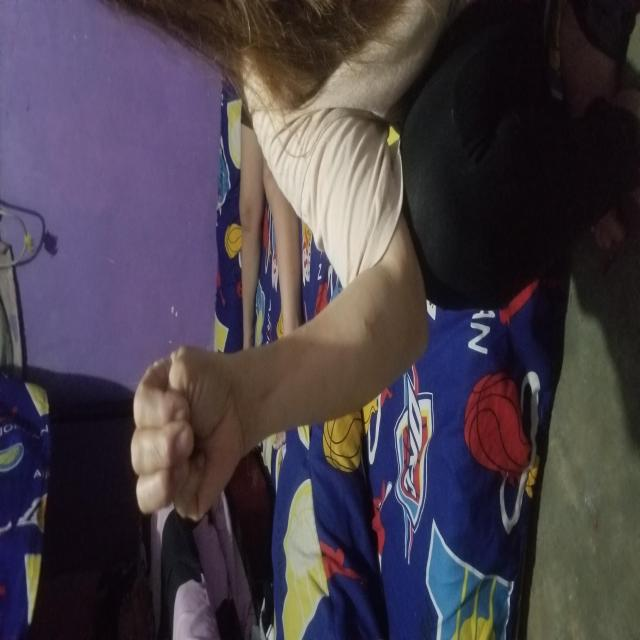M: (122, 130, 290, 238)
